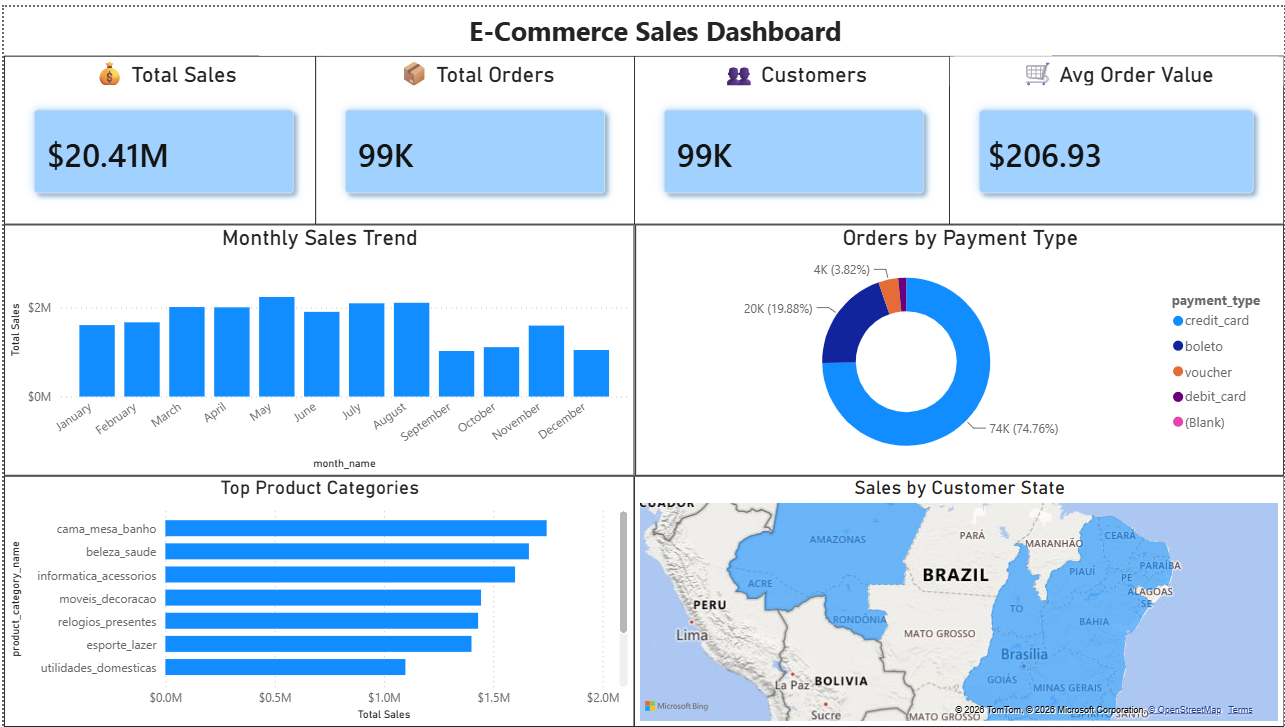

What the dashboard file says about the page in this screenshot:
{"tool":"powerbi","page":{"name":"Sales Dashboard","canvas":[1280,720],"ordinal":0},"visuals":[{"type":"cardVisual","title":"💰 Total Sales","fields":{"Data":["warehouse fact_sales.Total Sales"]},"box":[0,48.8,320,168.8],"z":0},{"type":"cardVisual","title":"📦 Total Orders","fields":{"Data":["warehouse fact_sales.Total Orders"]},"box":[311.2,48.8,320,168.8],"z":1000},{"type":"cardVisual","title":"👥 Customers","fields":{"Data":["warehouse fact_sales.Total Customers"]},"box":[630,48.8,320,168.8],"z":2000},{"type":"cardVisual","title":"🛒 Avg Order Value","fields":{"Data":["warehouse fact_sales.Average Order Value"]},"box":[945,48.8,335,168.8],"z":3000},{"type":"clusteredColumnChart","title":"Monthly Sales Trend","fields":{"Y":["warehouse fact_sales.Total Sales"],"Category":["warehouse dim_date.month_name"]},"box":[0,217.5,630,251.2],"z":4000},{"type":"donutChart","title":"Orders by Payment Type","fields":{"Category":["warehouse fact_sales.payment_type"],"Y":["warehouse fact_sales.Total Orders"]},"box":[631.2,217.5,648.8,251.2],"z":5000},{"type":"clusteredBarChart","title":"Top Product Categories","fields":{"Category":["warehouse dim_product.product_category_name"],"Y":["warehouse fact_sales.Total Sales"]},"box":[0,468.8,630,251.2],"z":6000},{"type":"filledMap","title":"Sales by Customer State","fields":{"Category":["warehouse dim_customer.customer_state"]},"box":[630,468.8,650,251.2],"z":7000},{"type":"textbox","box":[255,0,792.5,48.8],"z":7001}]}

Visuals, with their boxes in screenshot pixels (x1, y1, x2, y2), scaled from the page's 1280x720 canvas onto the 1285x727 screenshot:
"💰 Total Sales" cardVisual: [left=0, top=49, right=321, bottom=220]
"📦 Total Orders" cardVisual: [left=312, top=49, right=634, bottom=220]
"👥 Customers" cardVisual: [left=632, top=49, right=954, bottom=220]
"🛒 Avg Order Value" cardVisual: [left=949, top=49, right=1284, bottom=220]
"Monthly Sales Trend" clusteredColumnChart: [left=0, top=220, right=632, bottom=473]
"Orders by Payment Type" donutChart: [left=634, top=220, right=1284, bottom=473]
"Top Product Categories" clusteredBarChart: [left=0, top=473, right=632, bottom=726]
"Sales by Customer State" filledMap: [left=632, top=473, right=1284, bottom=726]
textbox: [left=256, top=0, right=1052, bottom=49]
